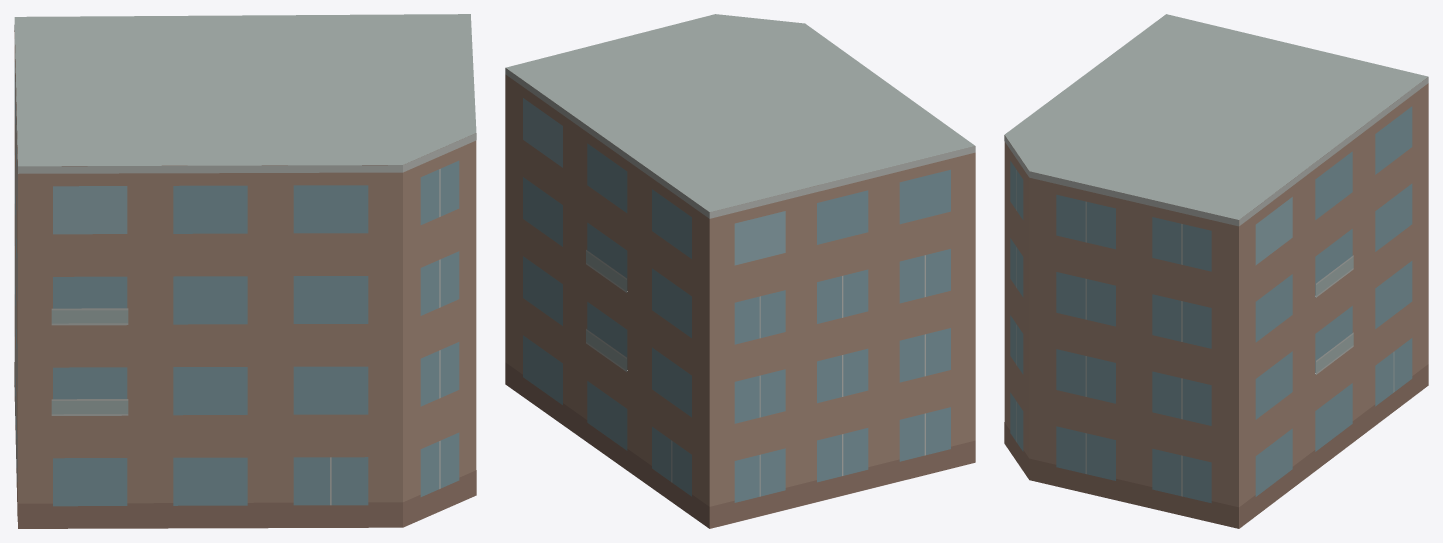
Rendered from survey-upis-32722103.glb.
The picture shows the model from 3 angles, left to right: view 1: azimuth 30°, elevation 25°; view 2: azimuth 150°, elevation 25°; view 3: azimuth 270°, elevation 25°; orthographic projection. The views are drawn at different scales.
Visible parts, largest first — view 1: survey-upis-32722103.tmp; view 2: survey-upis-32722103.tmp; view 3: survey-upis-32722103.tmp.
Boxes of the visible parts, left/top/right/bottom form: survey-upis-32722103.tmp: left=14, top=14, right=476, bottom=528; survey-upis-32722103.tmp: left=505, top=14, right=975, bottom=528; survey-upis-32722103.tmp: left=1004, top=14, right=1428, bottom=528.
Size of the model in its own units: 16.75 by 11.7 by 14.57.
